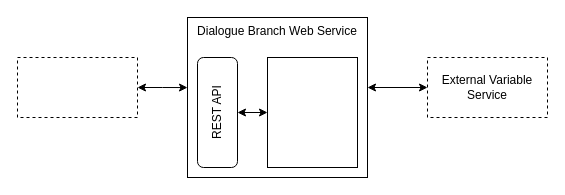
Some shapes in this 565 by 195 pixel diagram are drawn without their labels. The shapes that lost their labels are listed below. From the top down, each one's centre as x and y in pixels, then its label:
At point (77, 87): "Dialogue Branch Client".
At point (312, 112): "Dialogue Branch Core".
